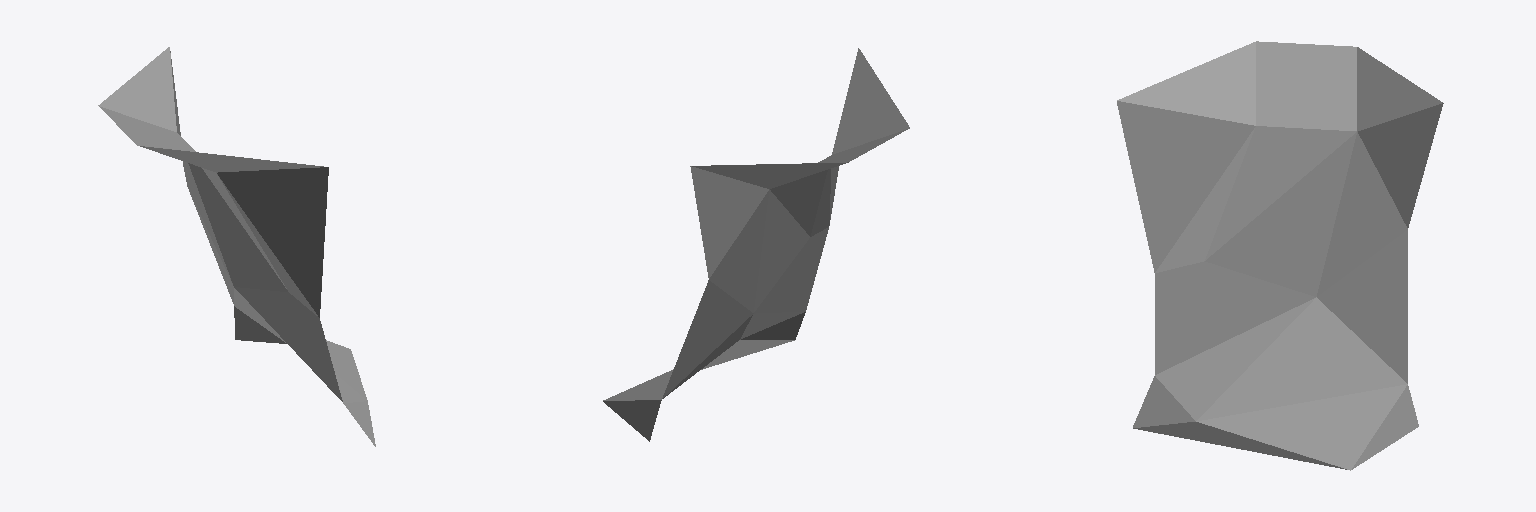
File: rubble1.obj
3 renders of one model, left to right at view 1: azimuth 30°, elevation 25°; view 2: azimuth 150°, elevation 25°; view 3: azimuth 270°, elevation 25°, orthographic.
Parts seen in each view (by area): view 1: Rubble; view 2: Rubble; view 3: Rubble.
Boxes of the visible parts, x1=… form: Rubble: x1=98, y1=47, x2=375, y2=446; Rubble: x1=603, y1=48, x2=909, y2=441; Rubble: x1=1117, y1=41, x2=1443, y2=470.
Bounding box in the file's own units: 26.65 × 29.48 × 28.96.